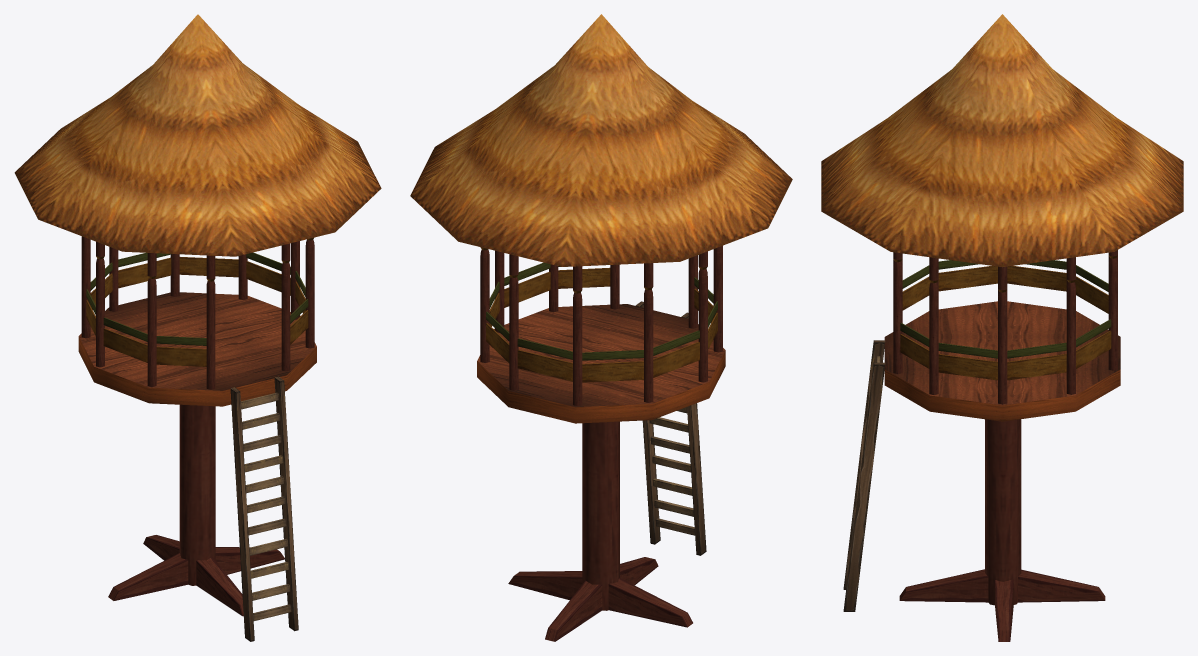
Rendered from HutHigh_01.FBX.
The picture shows the model from 3 angles, left to right: view 1: azimuth 30°, elevation 25°; view 2: azimuth 150°, elevation 25°; view 3: azimuth 270°, elevation 25°; orthographic projection. The views are drawn at different scales.
Visible parts, largest first — view 1: HutHigh_01; view 2: HutHigh_01; view 3: HutHigh_01.
Part boxes in pixels (x1,y1,x2,y2): HutHigh_01: (14, 14, 381, 641); HutHigh_01: (410, 14, 792, 641); HutHigh_01: (821, 14, 1183, 641).
Bounding box in the file's own units: 5.71 × 5.41 × 9.66.
